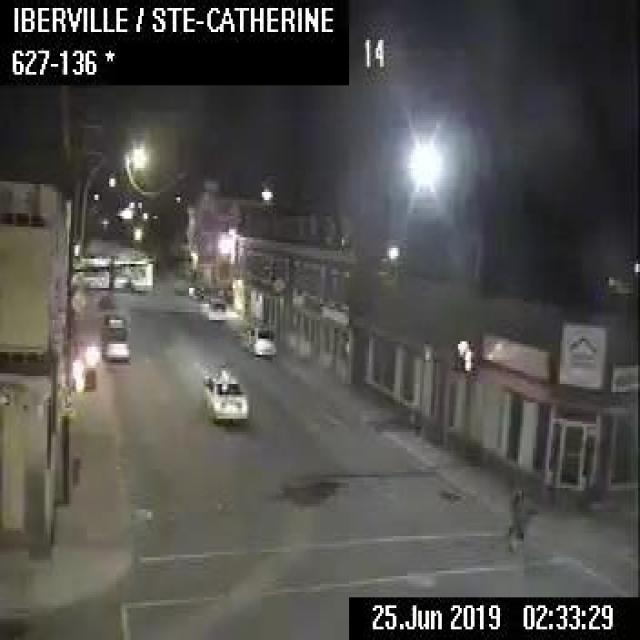bus: (74, 252, 152, 291)
pedestrian: (506, 482, 535, 561)
vehicle: (202, 366, 248, 424), (240, 321, 276, 358), (99, 333, 130, 360), (99, 310, 126, 332), (204, 300, 227, 322)
